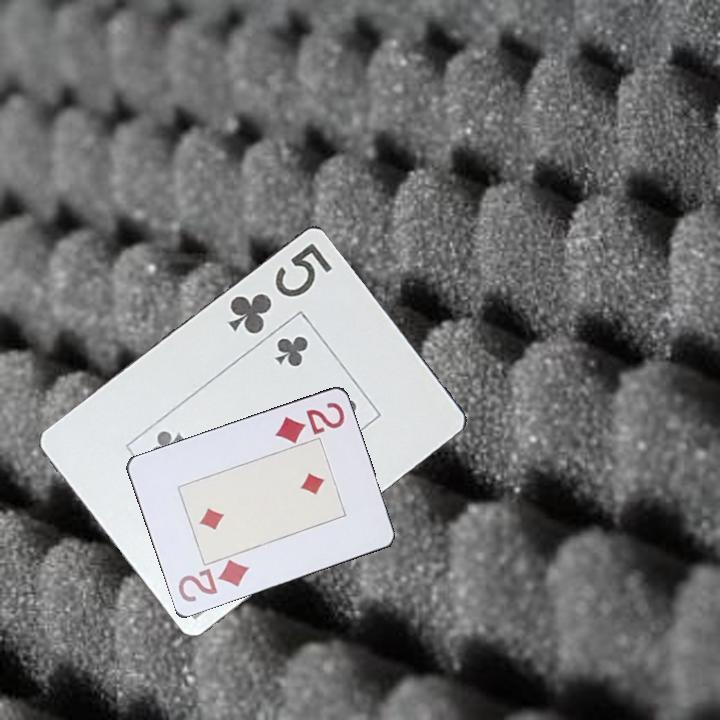2d: (174, 557, 254, 605), (270, 399, 347, 446)
5c: (224, 238, 336, 337)
